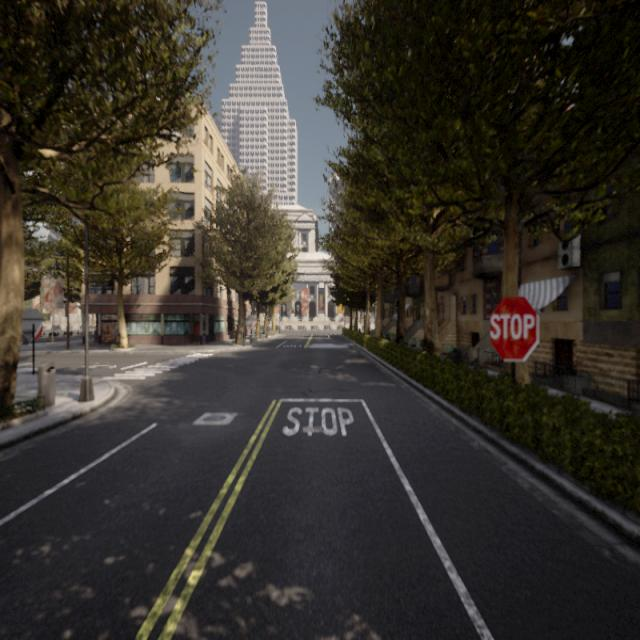stop sign: (486, 292, 541, 365)
